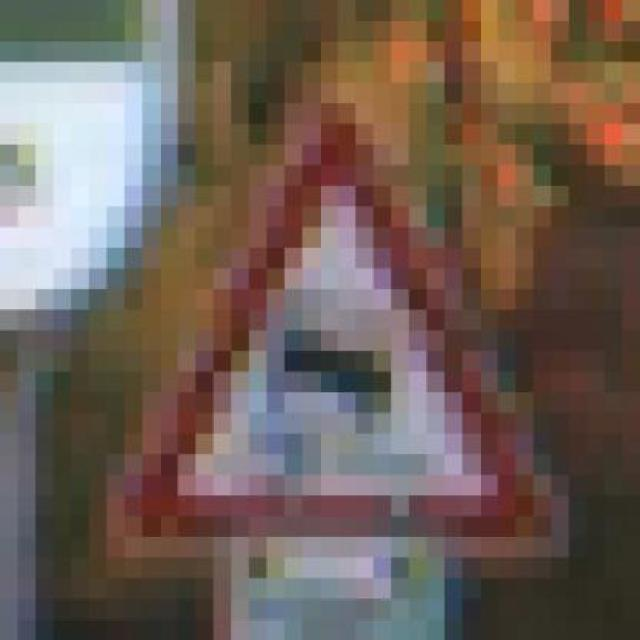Slippery Road Ahead: (71, 103, 569, 557)
